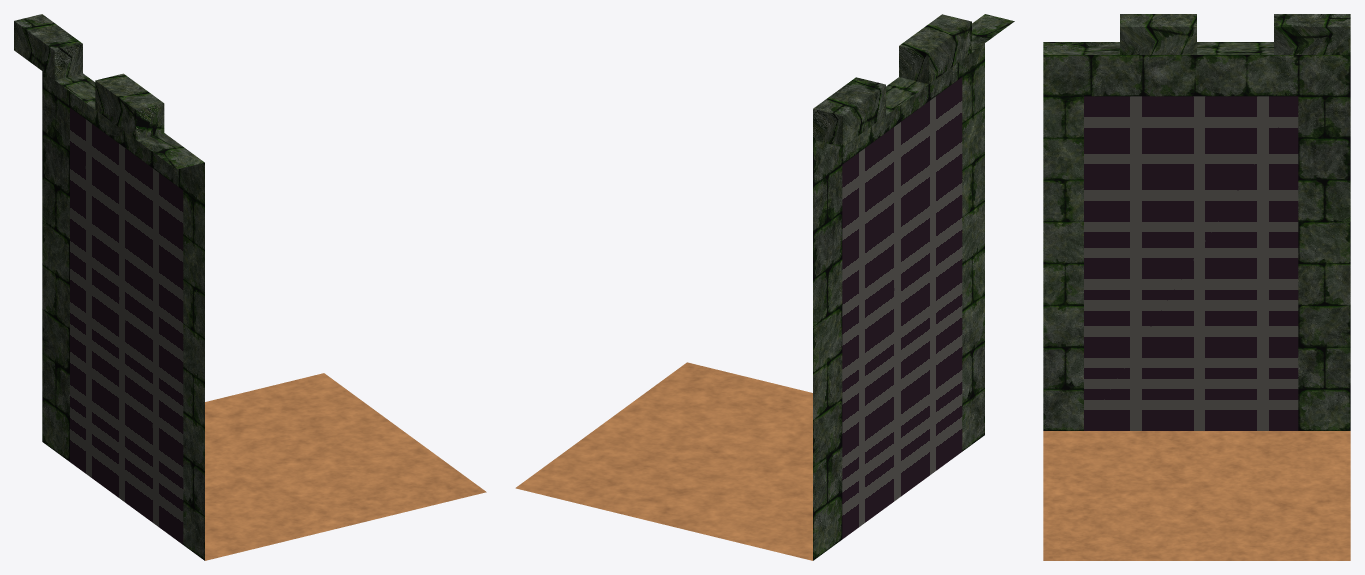
The model's file is gate3.glb.
The picture shows the model from 3 angles, left to right: view 1: azimuth 30°, elevation 25°; view 2: azimuth 150°, elevation 25°; view 3: azimuth 270°, elevation 25°; orthographic projection. The views are drawn at different scales.
Parts seen in each view (by area): view 1: gate; view 2: gate; view 3: gate.
Part boxes in pixels (x1=…): gate: x1=14, y1=14, x2=486, y2=560; gate: x1=515, y1=14, x2=1014, y2=560; gate: x1=1043, y1=14, x2=1350, y2=560.
Size of the model in its own units: 2.2 by 2.9 by 2.
3 materials, 3 textured.
